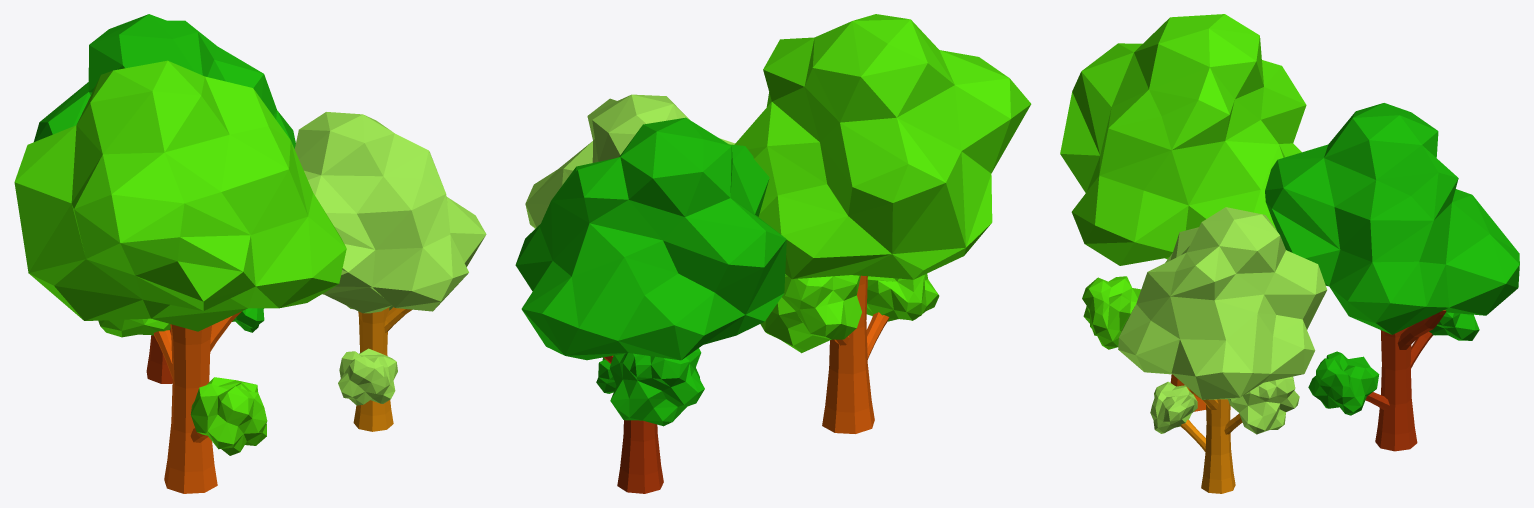
File: Tree_Group.fbx
The picture shows the model from 3 angles, left to right: view 1: azimuth 30°, elevation 25°; view 2: azimuth 150°, elevation 25°; view 3: azimuth 270°, elevation 25°; orthographic projection. The views are drawn at different scales.
Parts seen in each view (by area): view 1: Cylinder.003; view 2: Cylinder.003; view 3: Cylinder.003.
Boxes of the visible parts, bbox=[...] form: Cylinder.003: bbox=[14, 14, 486, 493]; Cylinder.003: bbox=[515, 14, 1031, 493]; Cylinder.003: bbox=[1060, 14, 1519, 493].
Bounding box in the file's own units: 233 × 228 × 206.
